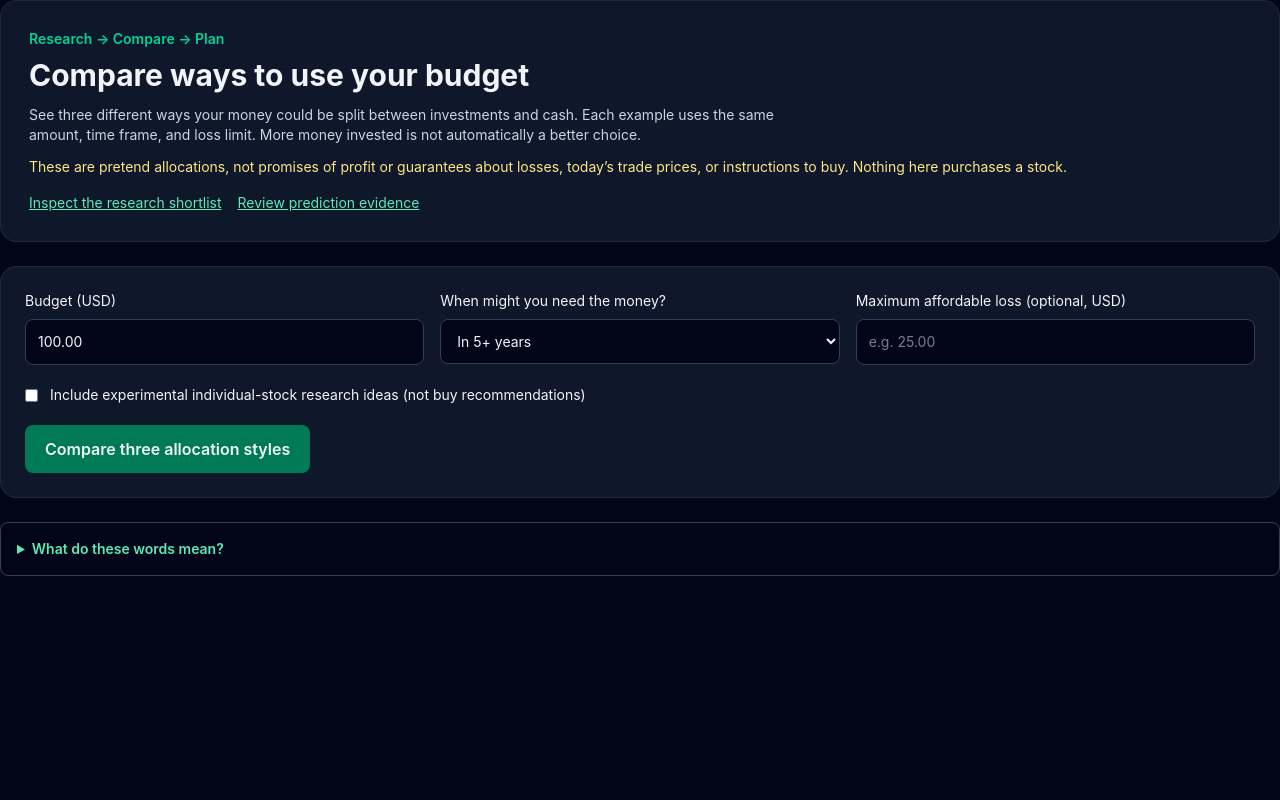
Budget Comparison Workspace › does not show partial results if a planner request fails
Click the button "Compare three allocation styles" at (168, 449), box [25,425,310,473]
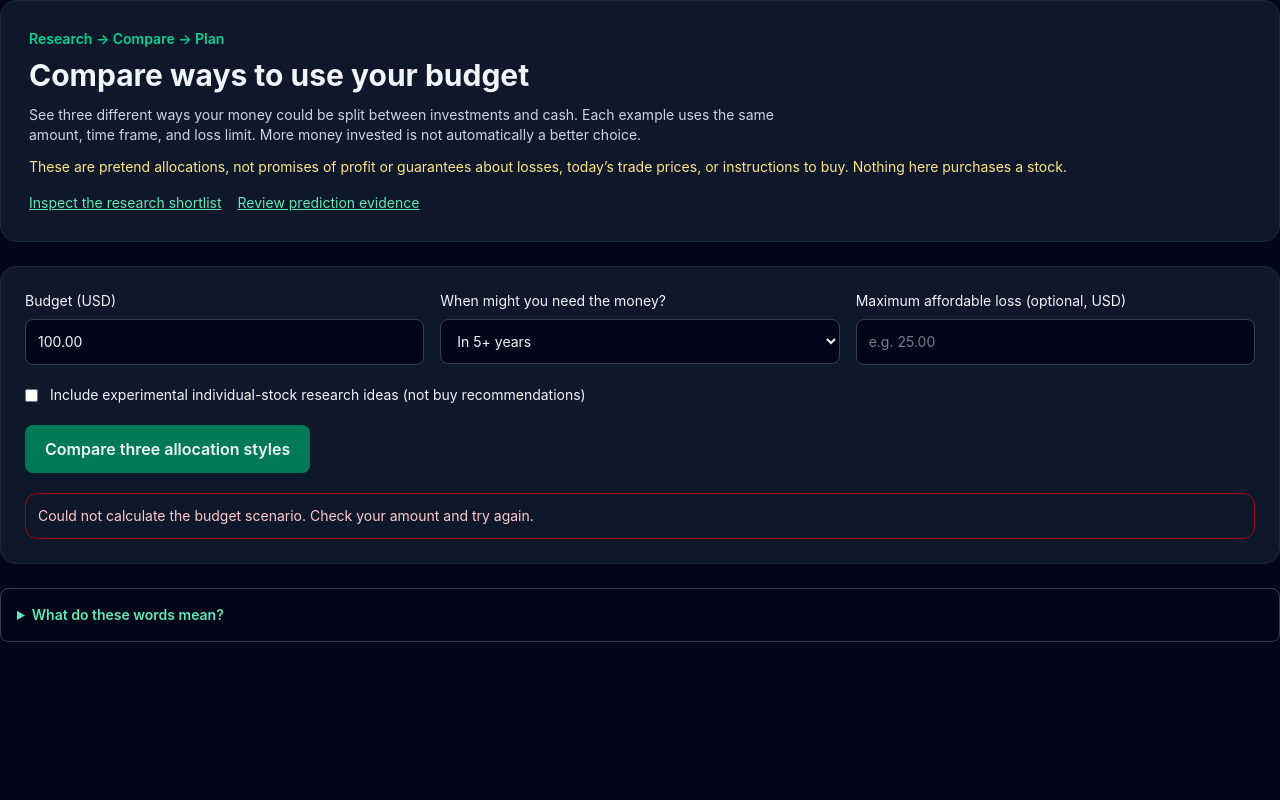
Expected: the message "Could not calculate the budget scenario. Check your amount and try again." is shown, [25,493,1255,539]
